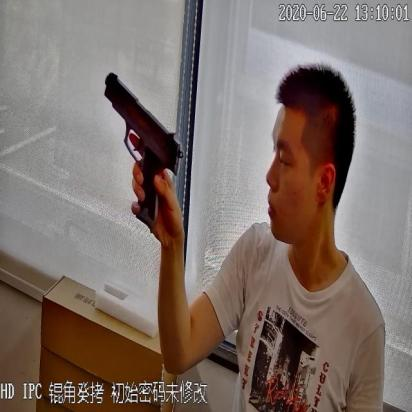Gun: (96, 70, 181, 236)
